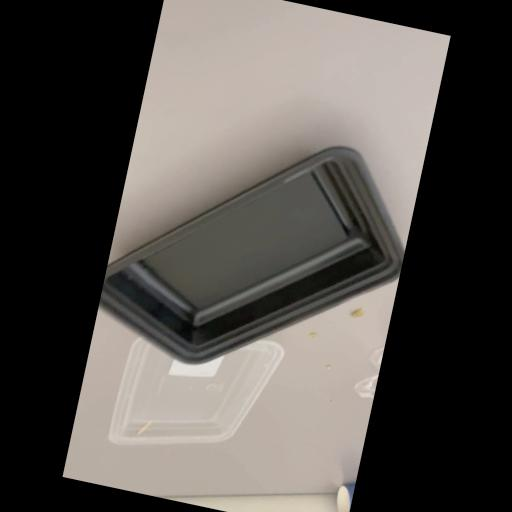rigid_plastic_container: (90, 69, 430, 406)
